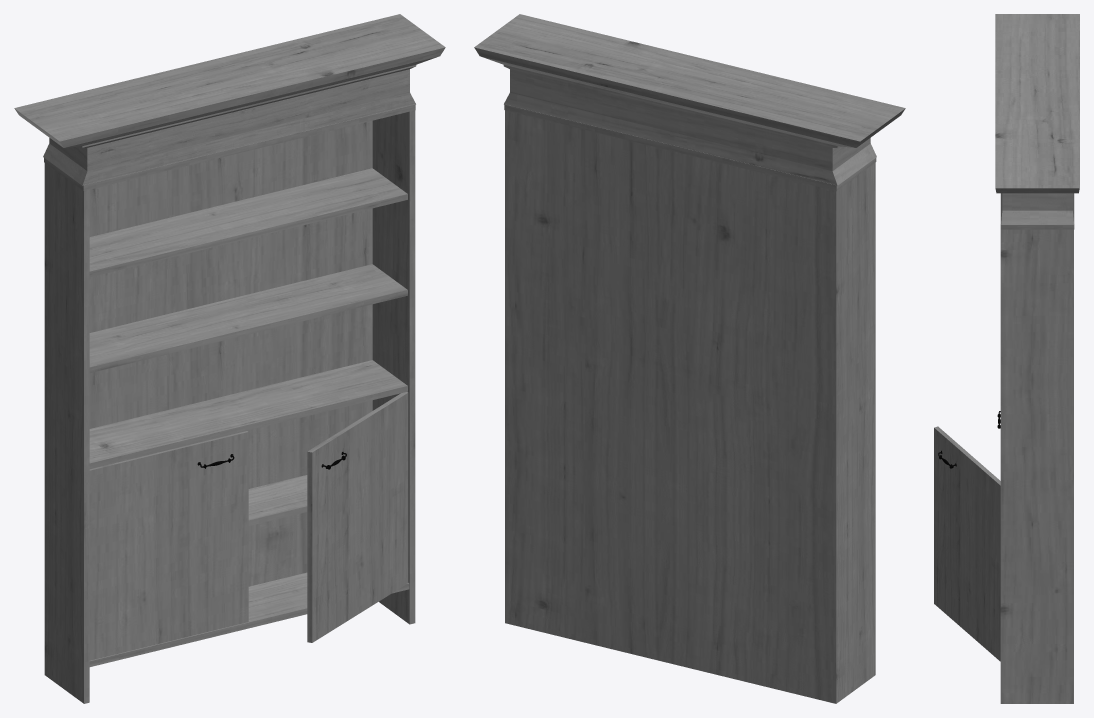
Rendered from LibreriaT.fbx.
The picture shows the model from 3 angles, left to right: view 1: azimuth 30°, elevation 25°; view 2: azimuth 150°, elevation 25°; view 3: azimuth 270°, elevation 25°; orthographic projection. The views are drawn at different scales.
Parts seen in each view (by area): view 1: CorpoCentrale.230; view 2: CorpoCentrale.230; view 3: CorpoCentrale.230.
Part boxes in pixels (left/top/right/bottom): CorpoCentrale.230: left=14, top=14, right=445, bottom=703; CorpoCentrale.230: left=474, top=14, right=905, bottom=703; CorpoCentrale.230: left=934, top=14, right=1079, bottom=703.
Bounding box in the file's own units: 170 × 240 × 60.
Materials: 2 (1 with a texture image).
